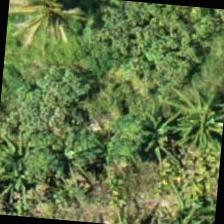Kelapa_Sawit: (6, 0, 96, 48)
